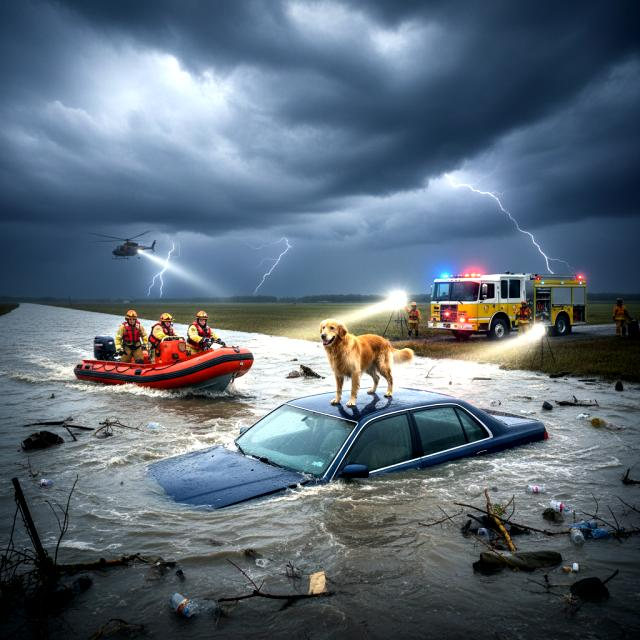dog: (297, 315, 403, 415)
rescuer: (114, 310, 154, 366), (150, 312, 182, 359), (189, 306, 218, 354), (400, 296, 426, 342), (609, 296, 631, 340), (513, 299, 536, 339)
